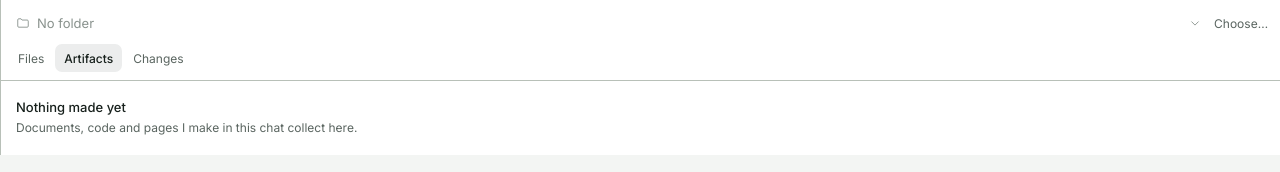
Test: the Changes sub-view (PRJ-UI-3) › explains itself, and lists no patches, in a chat with no folder
Click the tab with class "wb-tab" showing "Changes".
click(158, 58)  # box [124,44,193,72]
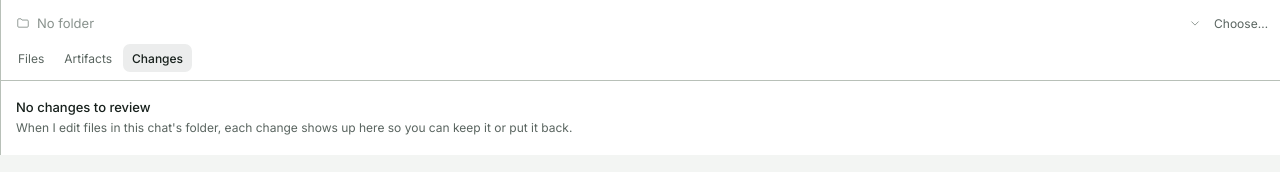
Check: the text "No changes to review" is shown, box [16,99,151,115]
